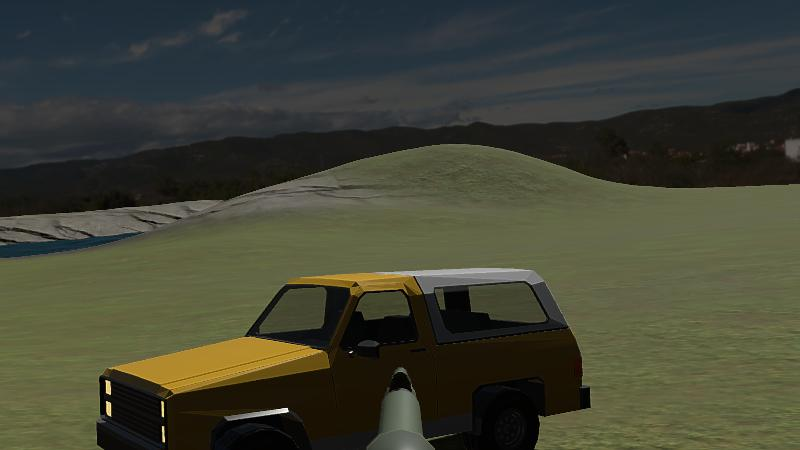car: (93, 268, 595, 450)
